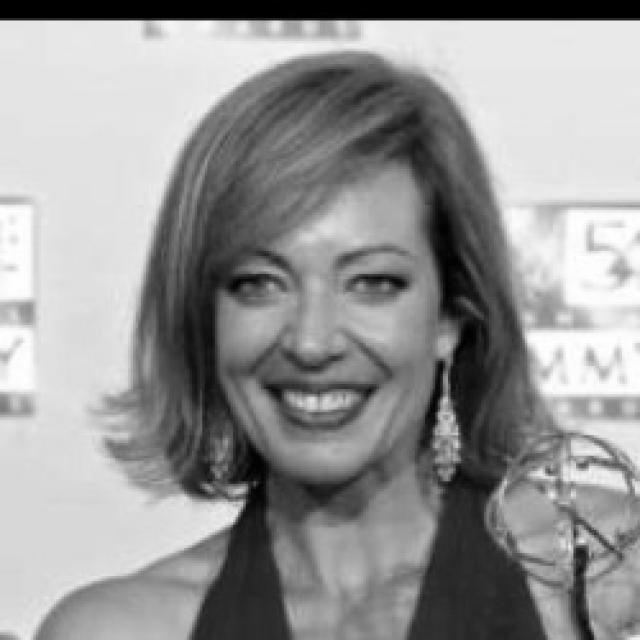real: (144, 57, 540, 515), (222, 255, 407, 315)
